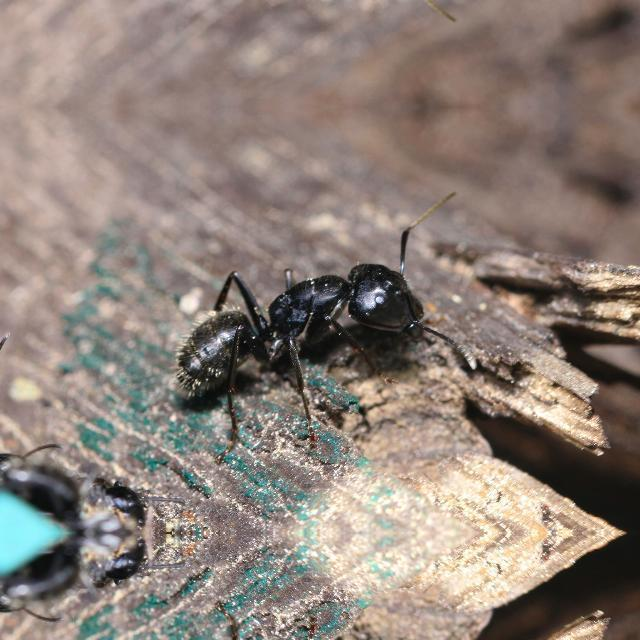Camponotus: (180, 192, 446, 440)
